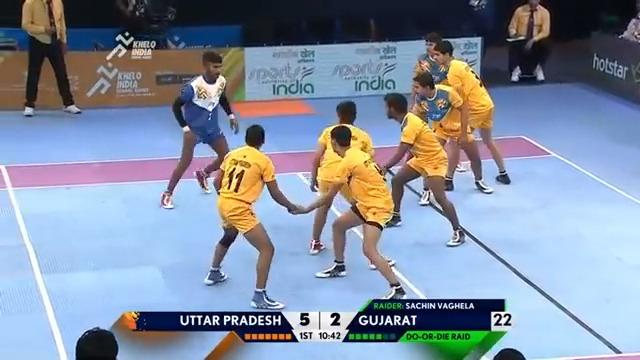Player: (289, 123, 408, 300), (201, 122, 302, 310), (377, 90, 467, 247), (430, 38, 512, 194), (414, 39, 444, 72)
Raider: (158, 48, 240, 210)
referee: (20, 0, 82, 116), (505, 0, 551, 83)
